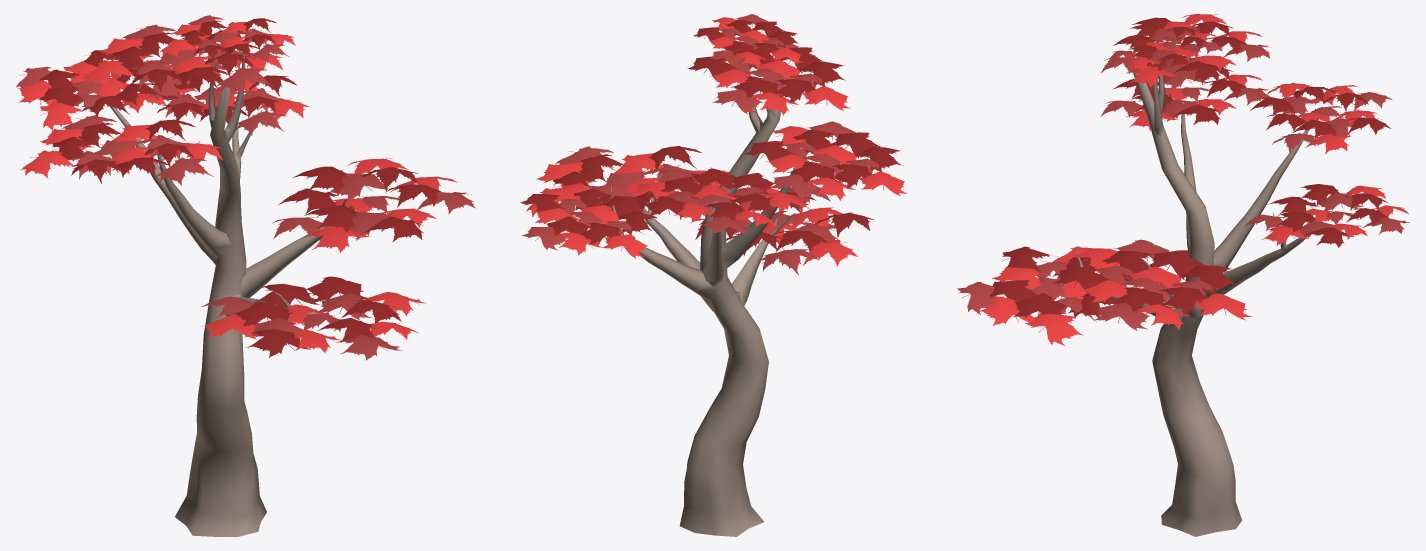
File: red_tree.fbx
3 renders of one model, left to right at view 1: azimuth 30°, elevation 25°; view 2: azimuth 150°, elevation 25°; view 3: azimuth 270°, elevation 25°, orthographic. The views are drawn at different scales.
Parts seen in each view (by area): view 1: red_tree1; view 2: red_tree1; view 3: red_tree1.
Part boxes in pixels (bbox=[...]): red_tree1: bbox=[16, 15, 475, 536]; red_tree1: bbox=[520, 14, 907, 536]; red_tree1: bbox=[957, 14, 1409, 536].
Size of the model in its own units: 11.67 by 13.58 by 12.03.
